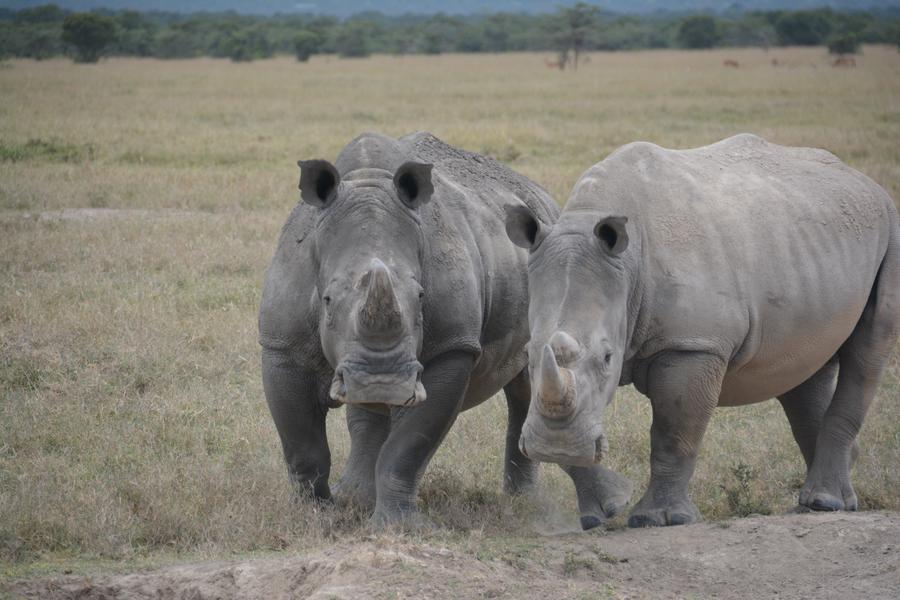rhino: (538, 138, 885, 493), (263, 119, 517, 497)
